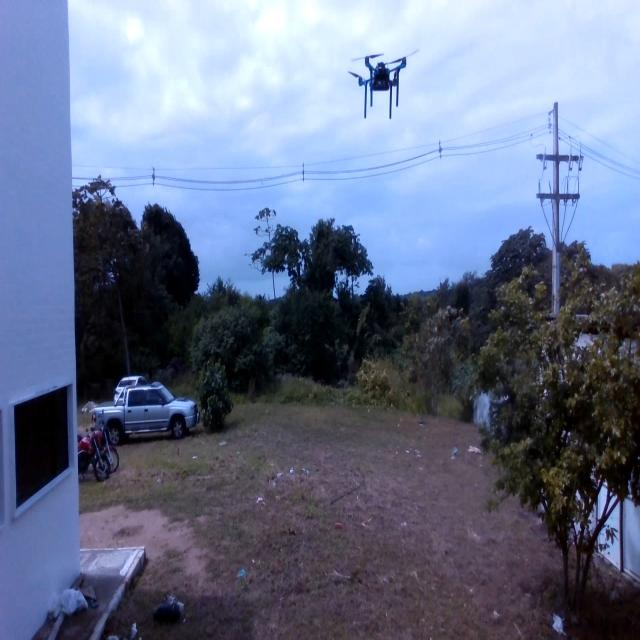-uav-: (338, 42, 427, 126)
